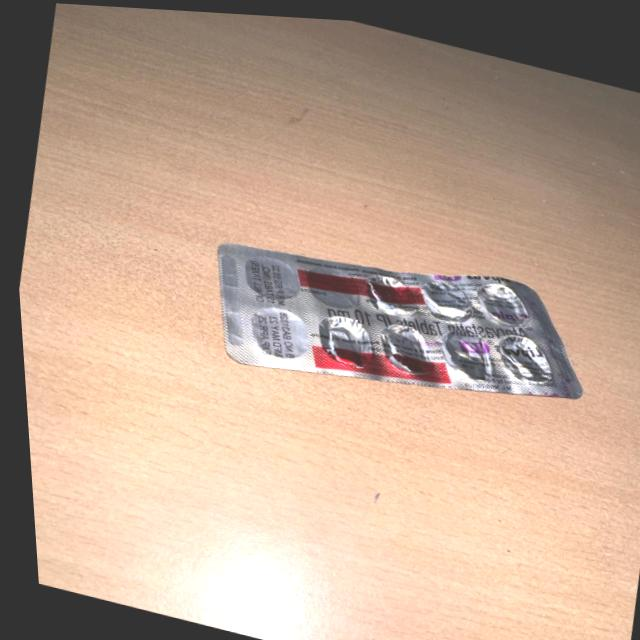medicine: (183, 230, 601, 400)
